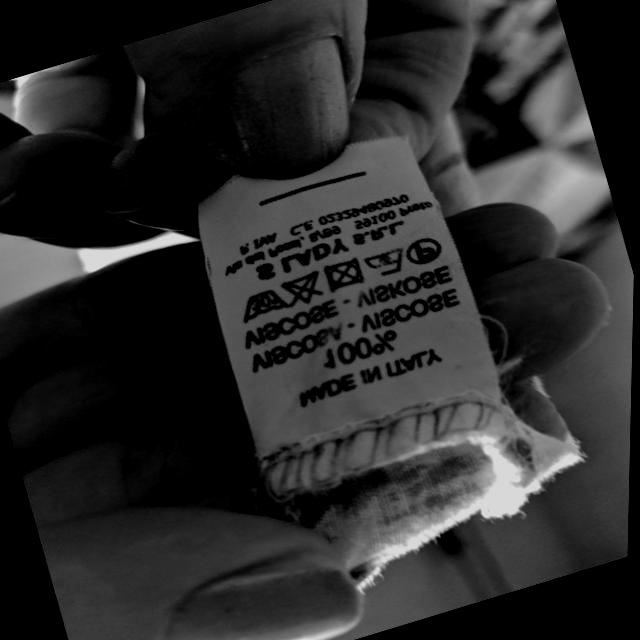30C: (238, 285, 284, 323)
DN_bleach: (281, 273, 320, 302)
DN_tumble_dry: (321, 260, 363, 289)
dry_clean_any_solvent_except_trichloroethylene: (405, 237, 443, 265)
iron: (361, 242, 403, 277)
